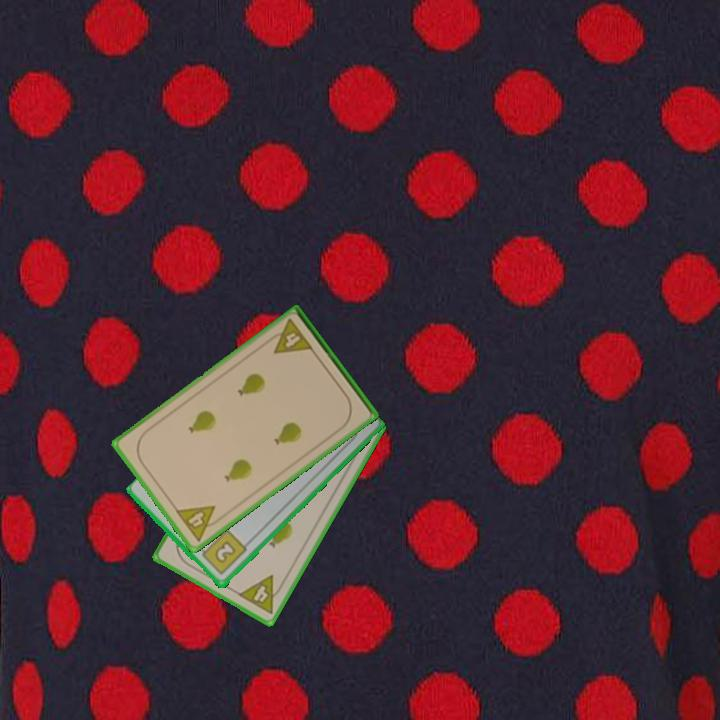2b: (195, 526, 250, 578)
4p: (234, 571, 288, 617), (172, 502, 226, 545), (263, 315, 316, 357)
